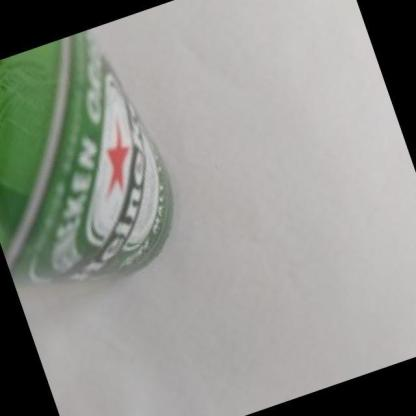Can: (0, 29, 173, 284)
